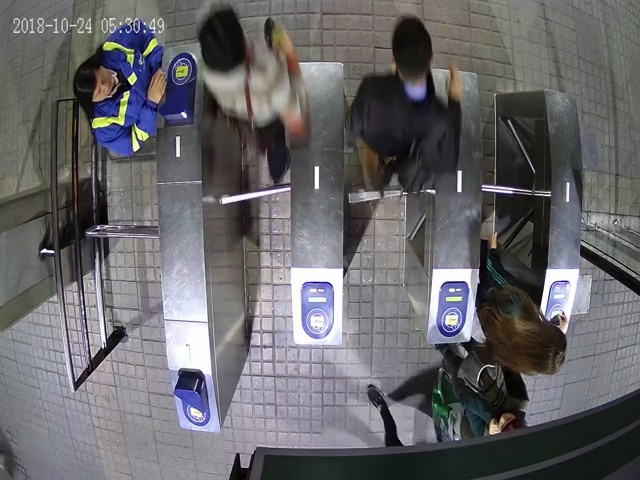Chaleco_azul: (74, 18, 169, 155)
